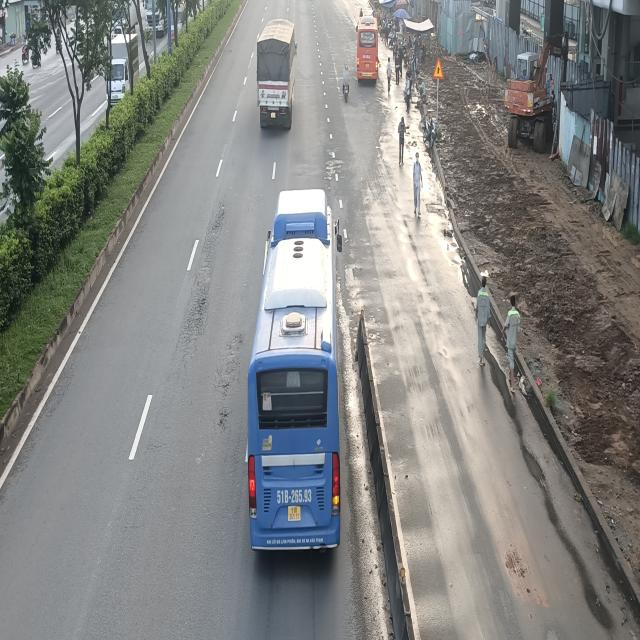coach: (246, 192, 341, 562), (356, 11, 380, 83)
truck: (255, 17, 298, 126)
